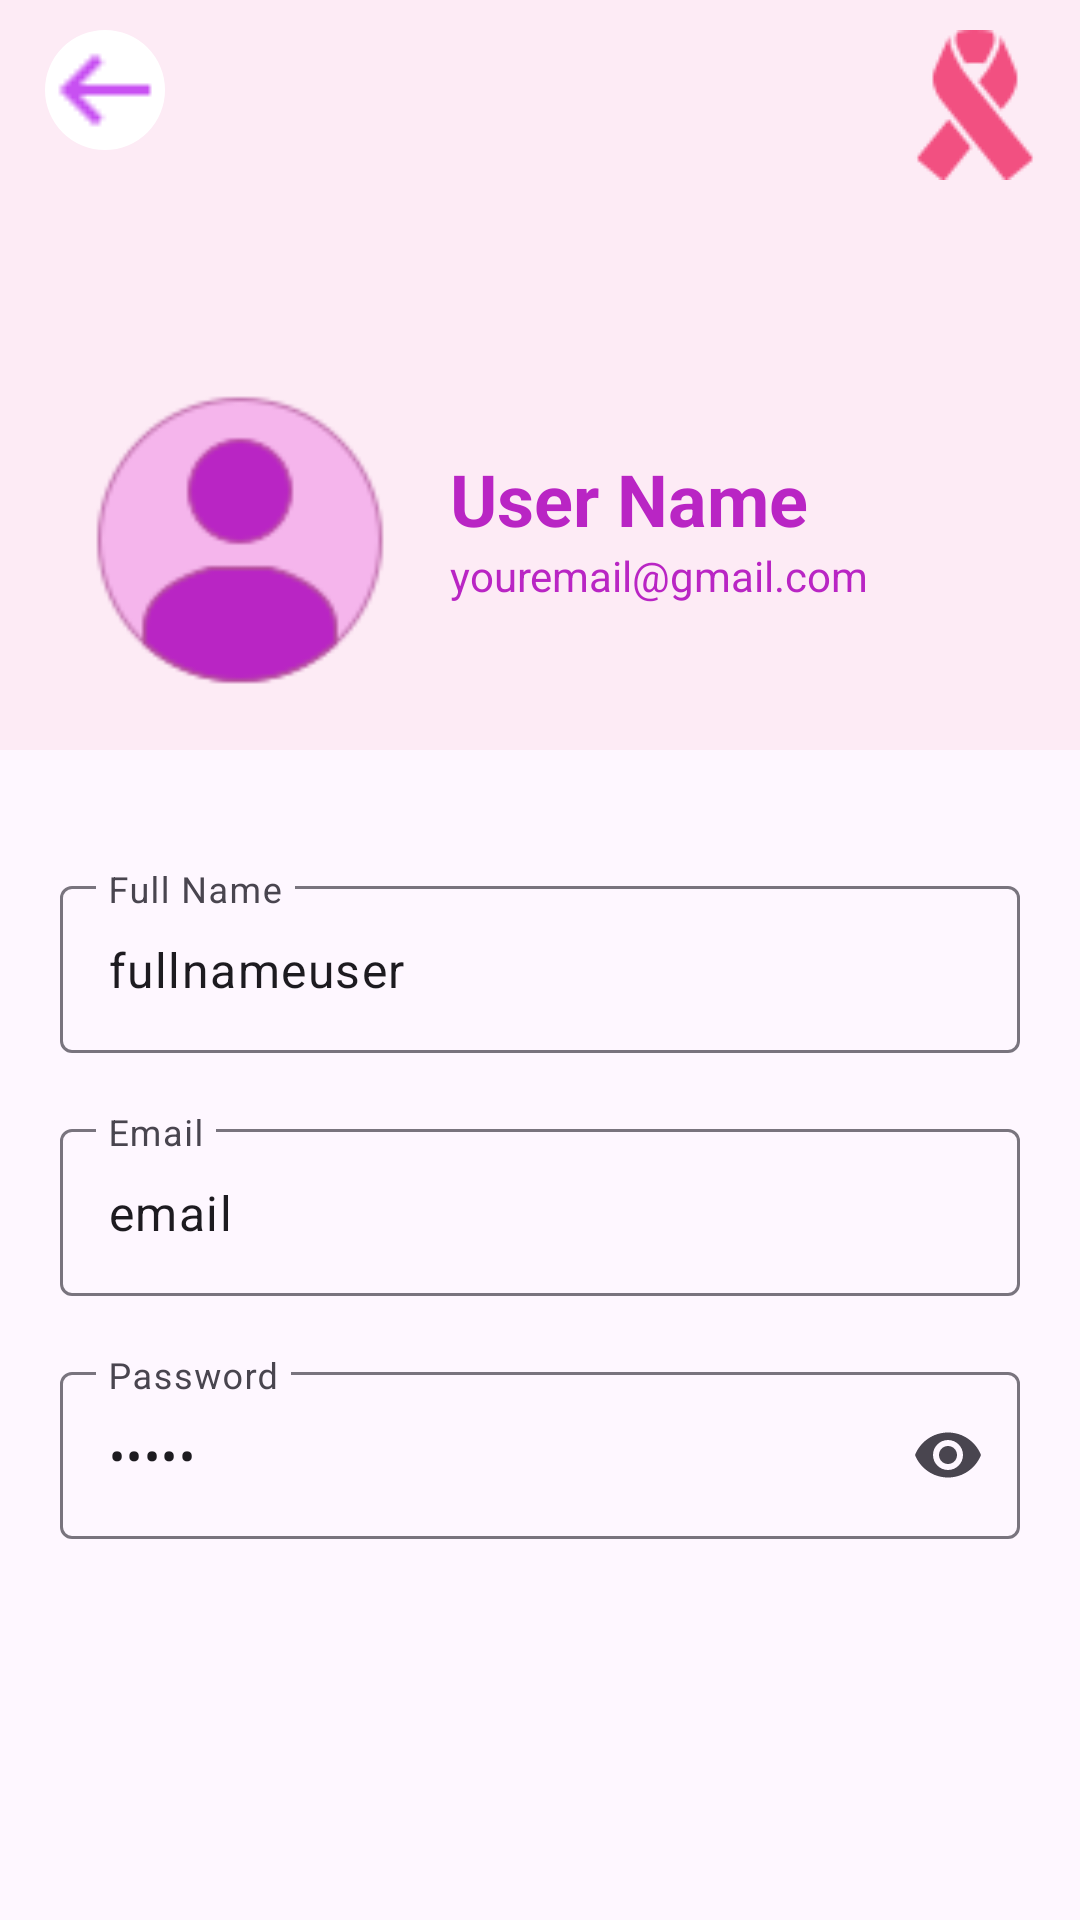

Icons on this 1080px x 1920px Android screen, each with its box as bbox=(x1, y1, x2, y2):
back: bbox=(45, 30, 165, 150)
profile ph: bbox=(96, 396, 384, 684)
